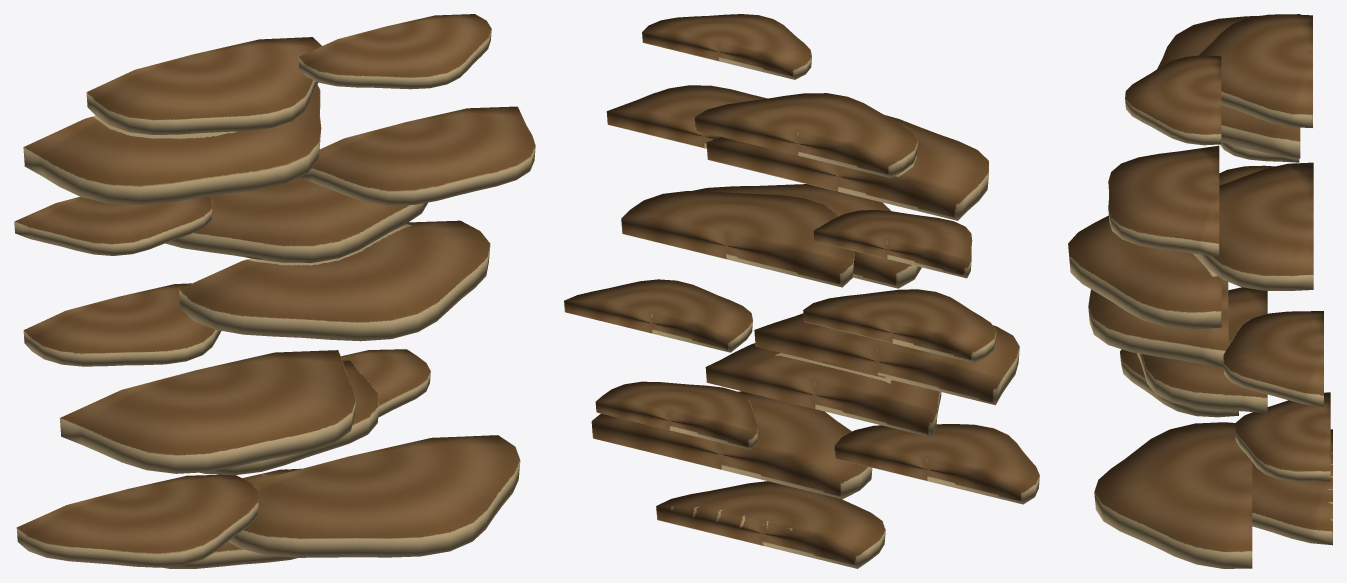
The model's file is RF3_Fungal_Colony.fbx.
The picture shows the model from 3 angles, left to right: view 1: azimuth 30°, elevation 25°; view 2: azimuth 150°, elevation 25°; view 3: azimuth 270°, elevation 25°; orthographic projection. The views are drawn at different scales.
Parts seen in each view (by area): view 1: RF3_Fungal_Colony; view 2: RF3_Fungal_Colony; view 3: RF3_Fungal_Colony.
Part boxes in pixels (x1,y1,x2,y2): RF3_Fungal_Colony: (14, 14, 535, 568); RF3_Fungal_Colony: (564, 14, 1039, 568); RF3_Fungal_Colony: (1068, 14, 1332, 568).
Size of the model in its own units: 180 by 176 by 93.14.
